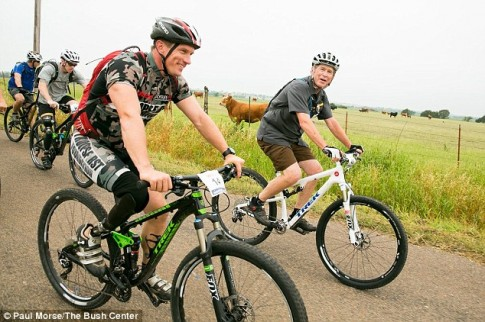with_helmet: (145, 15, 209, 49), (312, 50, 347, 71), (58, 48, 79, 65)
